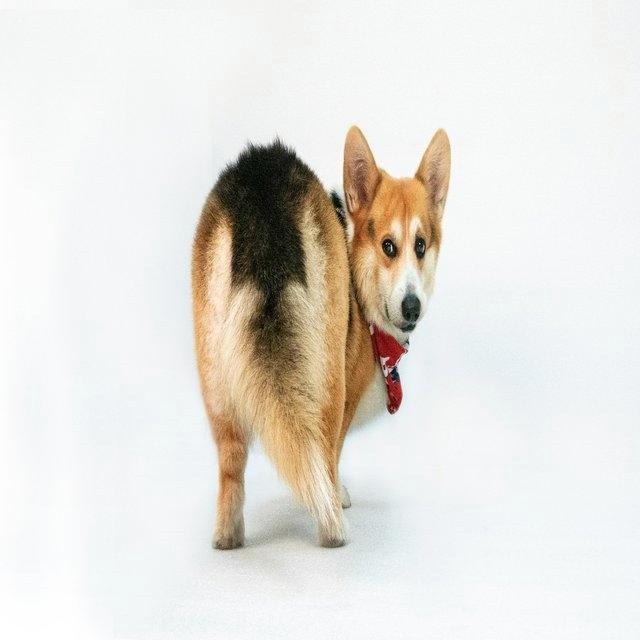corgi: (189, 123, 452, 550)
